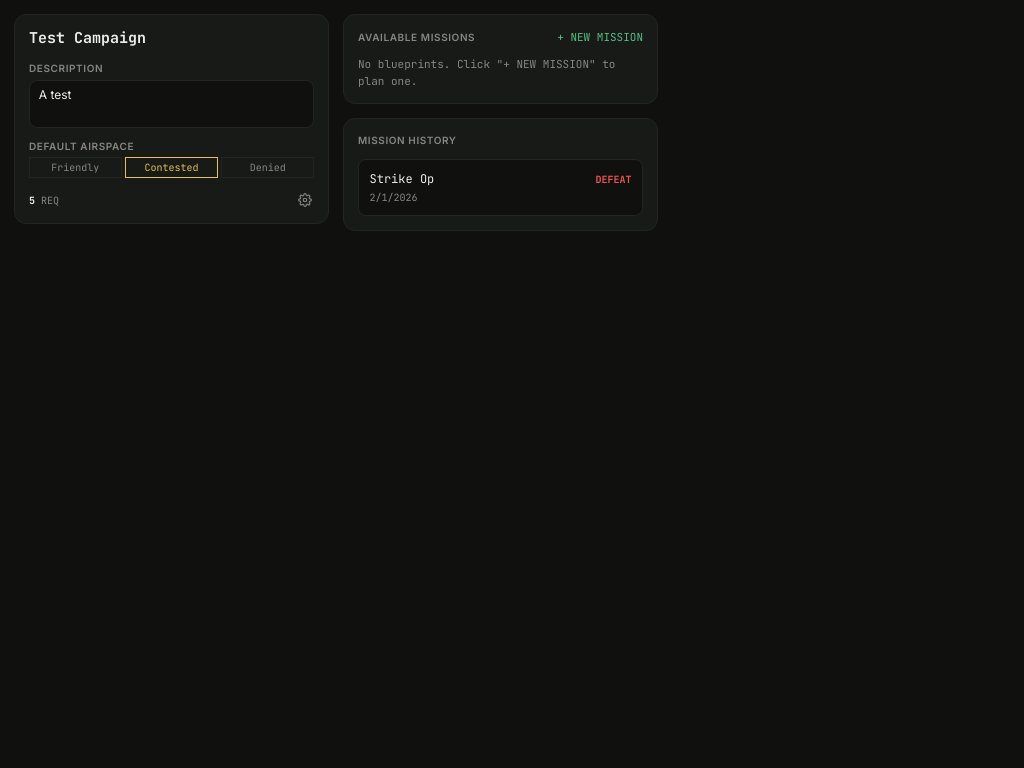
HQ › clicking a completed mission opens FieldReportPanel
Click the text "Strike Op". click: (402, 179)
box: [370, 170, 434, 188]
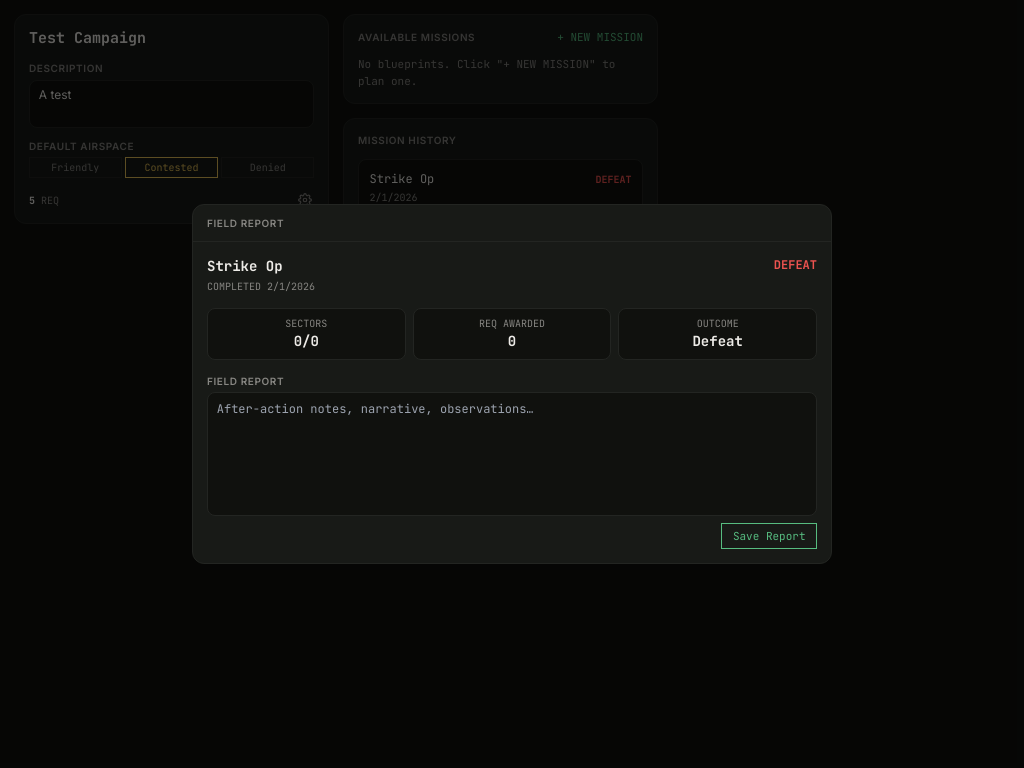
Expected: the 1st text "Field Report" is shown, [193, 205, 831, 242]
